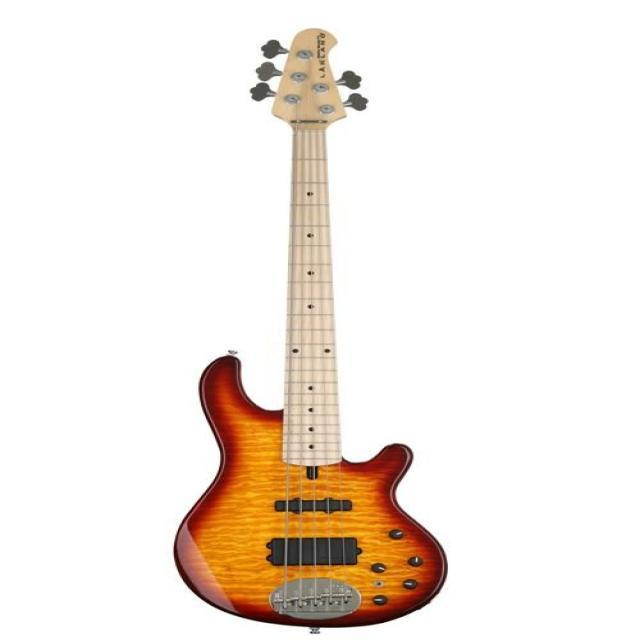bass: (175, 29, 445, 630)
